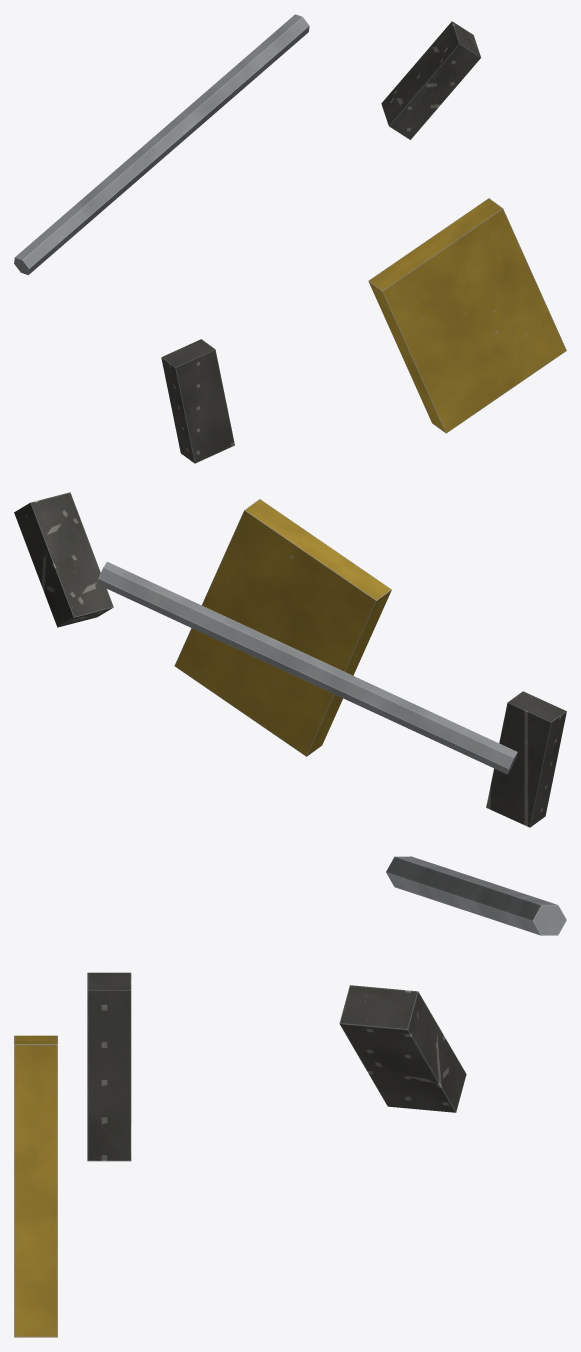
The model's file is sd_prop_debris2.glb.
3 renders of one model, top to bottom at view 1: azimuth 30°, elevation 25°; view 2: azimuth 150°, elevation 25°; view 3: azimuth 270°, elevation 25°, orthographic. The views are drawn at different scales.
Parts seen in each view (by area): view 1: LOD0_body, LOD1_body; view 2: LOD0_body; view 3: LOD0_body, LOD1_body.
Part boxes in pixels (x1,y1,x2,y2): LOD0_body: (14, 14, 566, 463); LOD1_body: (401, 30, 480, 131); LOD0_body: (14, 492, 566, 827); LOD0_body: (14, 856, 566, 1337); LOD1_body: (339, 986, 410, 1023).
Bounding box in the file's own units: 1 × 0.5969 × 0.6742.
1 material, 1 textured.
